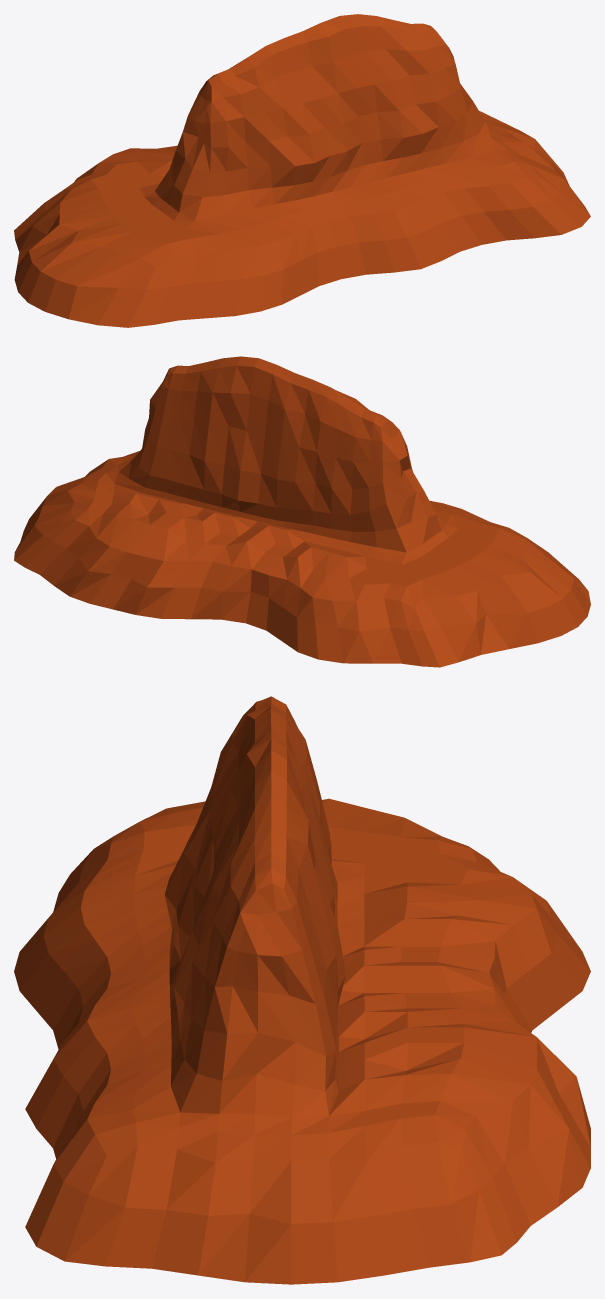
File: Plateau_desert_005.glb
3 views of the same model, one above another, from view 1: azimuth 30°, elevation 25°; view 2: azimuth 150°, elevation 25°; view 3: azimuth 270°, elevation 25° (orthographic). The views are drawn at different scales.
Visible parts, largest first — view 1: Plateau_desert_005; view 2: Plateau_desert_005; view 3: Plateau_desert_005.
Boxes of the visible parts, x1,y1,x2,y2 form: Plateau_desert_005: (14, 14, 590, 327); Plateau_desert_005: (14, 356, 590, 667); Plateau_desert_005: (14, 696, 590, 1284).
Size of the model in its own units: 52.88 by 19.11 by 28.52.
